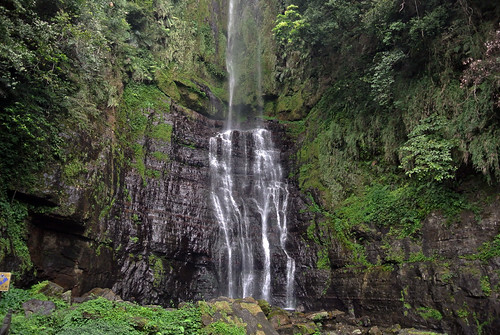wufengciWaterfall: (194, 4, 309, 308)
